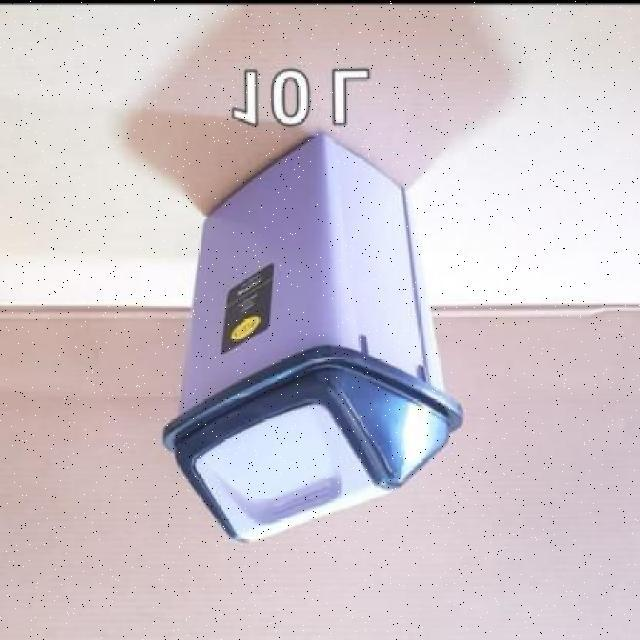garbage container: (153, 128, 479, 557)
